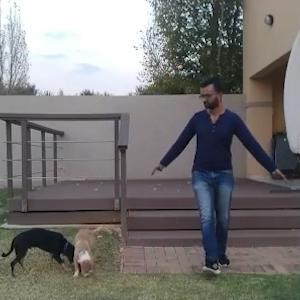land: (152, 83, 289, 271)
